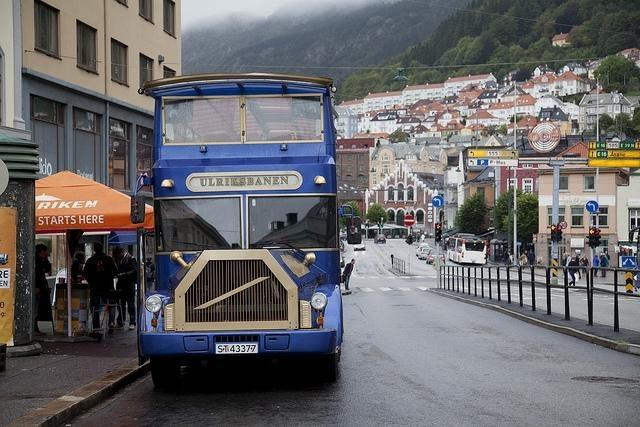bus: (143, 72, 345, 376), (446, 233, 486, 266)
car: (425, 250, 446, 264), (418, 248, 432, 259), (354, 238, 366, 250), (416, 246, 430, 256), (374, 233, 386, 244), (418, 242, 428, 248)
